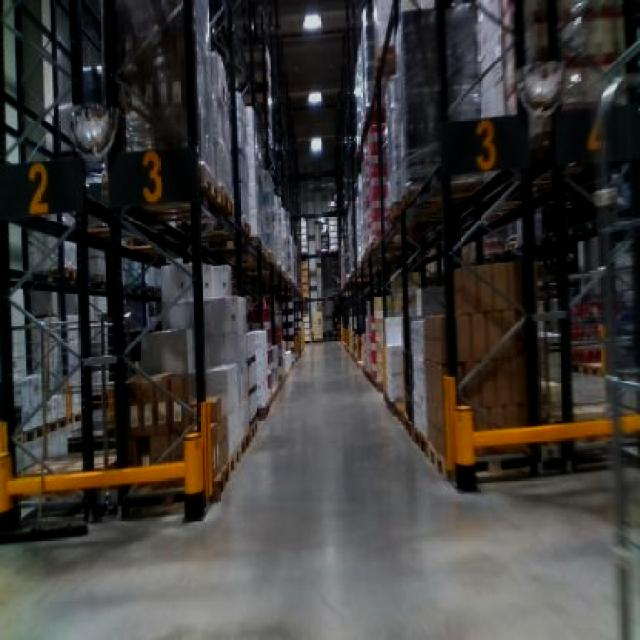floor: (0, 342, 614, 637)
